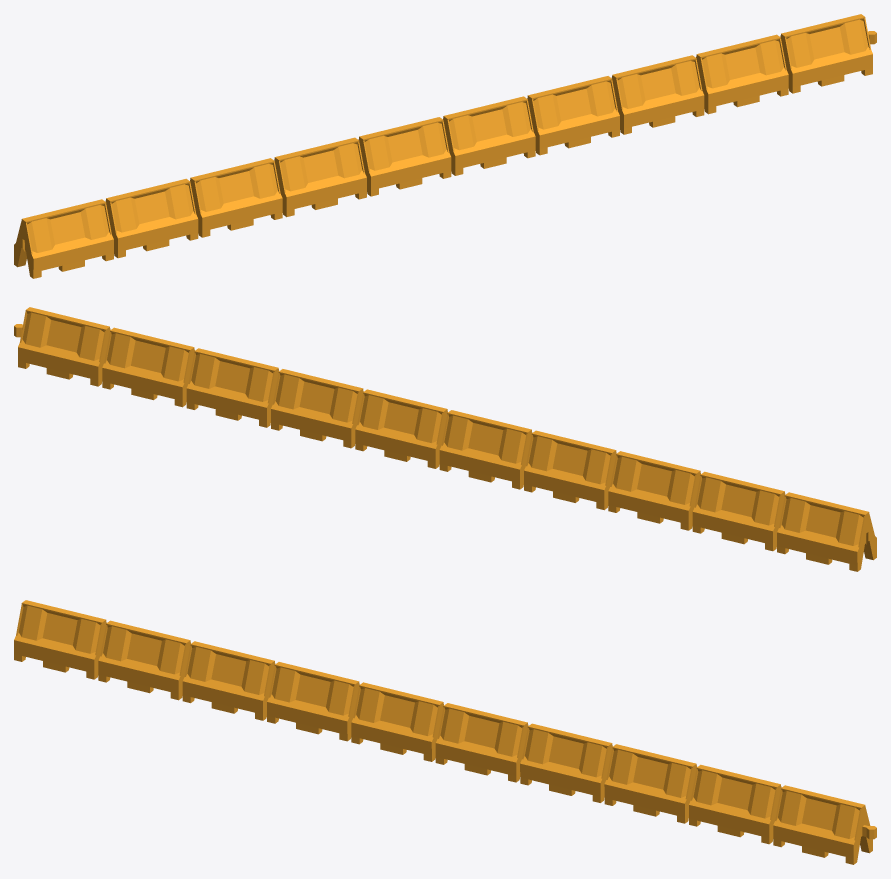
File: SM_Fence_Road_Plastic_Unicolor_10m.fbx
3 views of the same model, one above another, from view 1: azimuth 30°, elevation 25°; view 2: azimuth 150°, elevation 25°; view 3: azimuth 330°, elevation 25° (orthographic).
Parts seen in each view (by area): view 1: SM_Fence_Road_Plastic_Unicolor_10m; view 2: SM_Fence_Road_Plastic_Unicolor_10m; view 3: SM_Fence_Road_Plastic_Unicolor_10m.
Part boxes in pixels (left/top/right/bottom): SM_Fence_Road_Plastic_Unicolor_10m: left=14, top=14, right=876, bottom=278; SM_Fence_Road_Plastic_Unicolor_10m: left=14, top=307, right=876, bottom=571; SM_Fence_Road_Plastic_Unicolor_10m: left=14, top=600, right=876, bottom=864.
Bounding box in the file's own units: 10.12 × 0.5841 × 0.4019.
